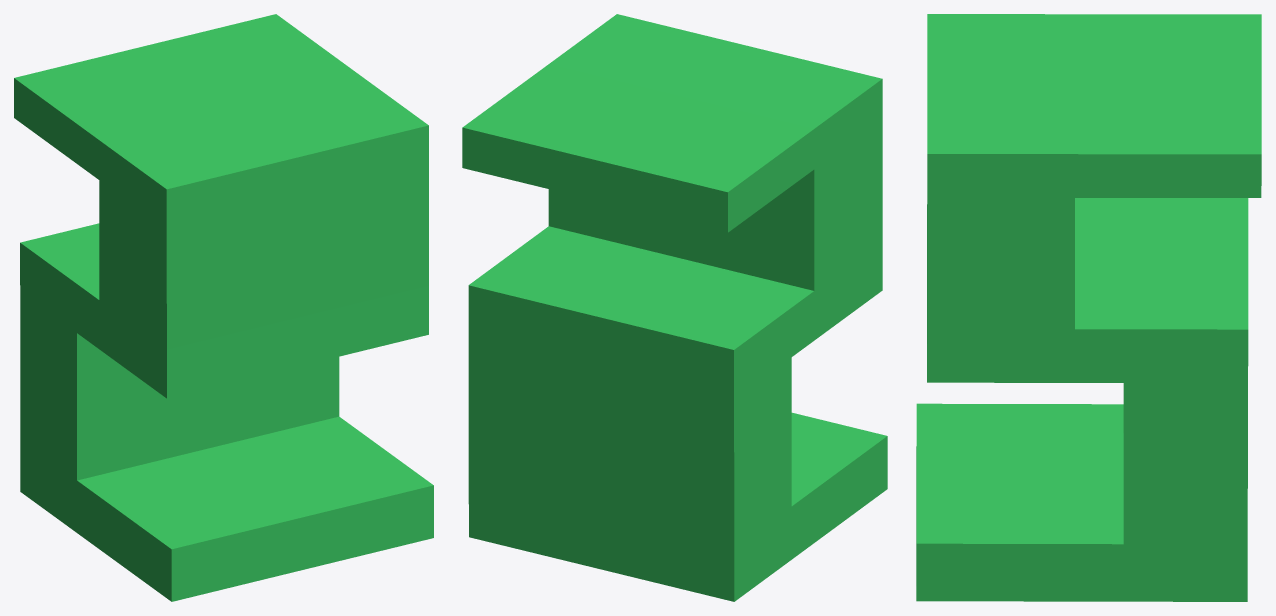
File: Savepoint.fbx
3 renders of one model, left to right at view 1: azimuth 30°, elevation 25°; view 2: azimuth 150°, elevation 25°; view 3: azimuth 270°, elevation 25°, orthographic. The views are drawn at different scales.
Parts seen in each view (by area): view 1: Cube; view 2: Cube; view 3: Cube.
Boxes of the visible parts, x1=… form: Cube: x1=14, y1=14, x2=433, y2=601; Cube: x1=462, y1=14, x2=887, y2=601; Cube: x1=916, y1=14, x2=1261, y2=601.
Size of the model in its own units: 200 by 299 by 208.
